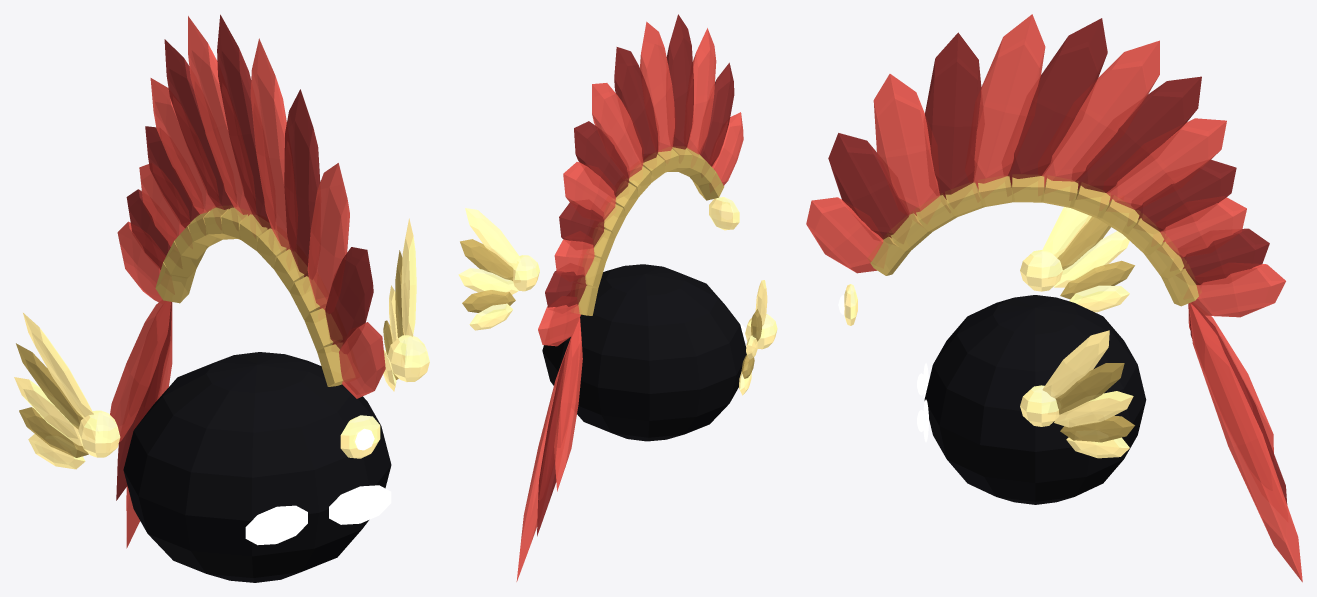
The model's file is last_marshal_helm.glb.
The picture shows the model from 3 angles, left to right: view 1: azimuth 30°, elevation 25°; view 2: azimuth 150°, elevation 25°; view 3: azimuth 270°, elevation 25°; orthographic projection. The views are drawn at different scales.
Parts seen in each view (by area): view 1: last_marshal_helm; view 2: last_marshal_helm; view 3: last_marshal_helm.
Part boxes in pixels (x1,y1,x2,y2): last_marshal_helm: (14, 14, 429, 582); last_marshal_helm: (458, 14, 777, 581); last_marshal_helm: (806, 14, 1302, 582).
Bounding box in the file's own units: 1.3 × 2.01 × 1.61.
